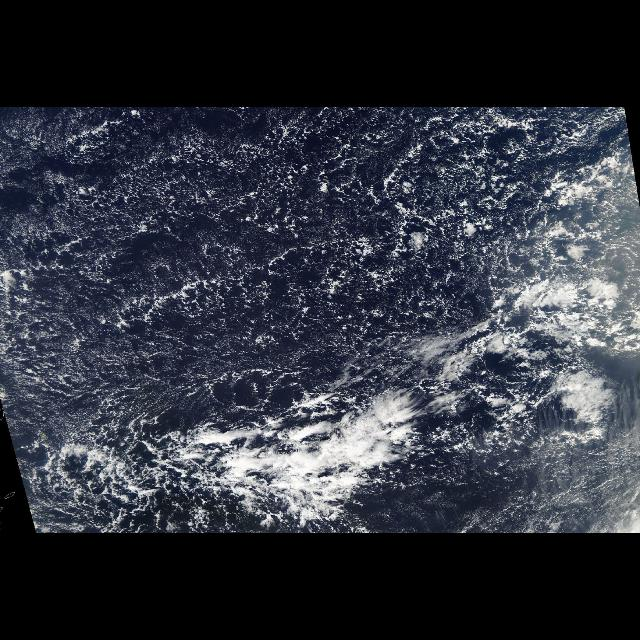Fish: (142, 375, 458, 529)
Gravel: (3, 110, 639, 530)
Sugar: (461, 439, 637, 533), (11, 355, 149, 449), (436, 140, 512, 266)
